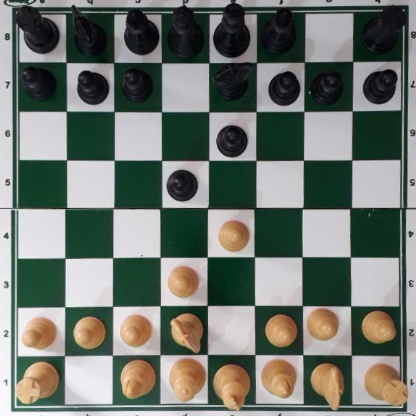black-bishop: (260, 7, 297, 54), (123, 7, 159, 54)
black-king: (212, 3, 252, 58)
black-knight: (71, 4, 106, 57), (212, 62, 254, 103)
black-pawn: (362, 67, 397, 104), (21, 65, 56, 101), (215, 121, 249, 155), (76, 67, 107, 104), (311, 69, 343, 104), (268, 70, 299, 105), (121, 67, 152, 101), (166, 168, 197, 200)
black-queen: (166, 5, 205, 56)
black-rook: (14, 6, 59, 52), (360, 6, 403, 52)
white-bishop: (261, 358, 296, 400), (119, 358, 154, 399)
white-king: (214, 361, 248, 410)
white-knight: (311, 361, 344, 411), (170, 311, 204, 352)
white-pawn: (19, 315, 58, 349), (166, 263, 200, 298), (118, 312, 152, 347), (361, 310, 396, 343), (216, 218, 250, 251), (263, 313, 296, 346), (307, 307, 339, 341), (72, 315, 105, 346)
white-queen: (165, 357, 208, 401)
white-rook: (14, 360, 59, 403), (363, 362, 408, 405)
